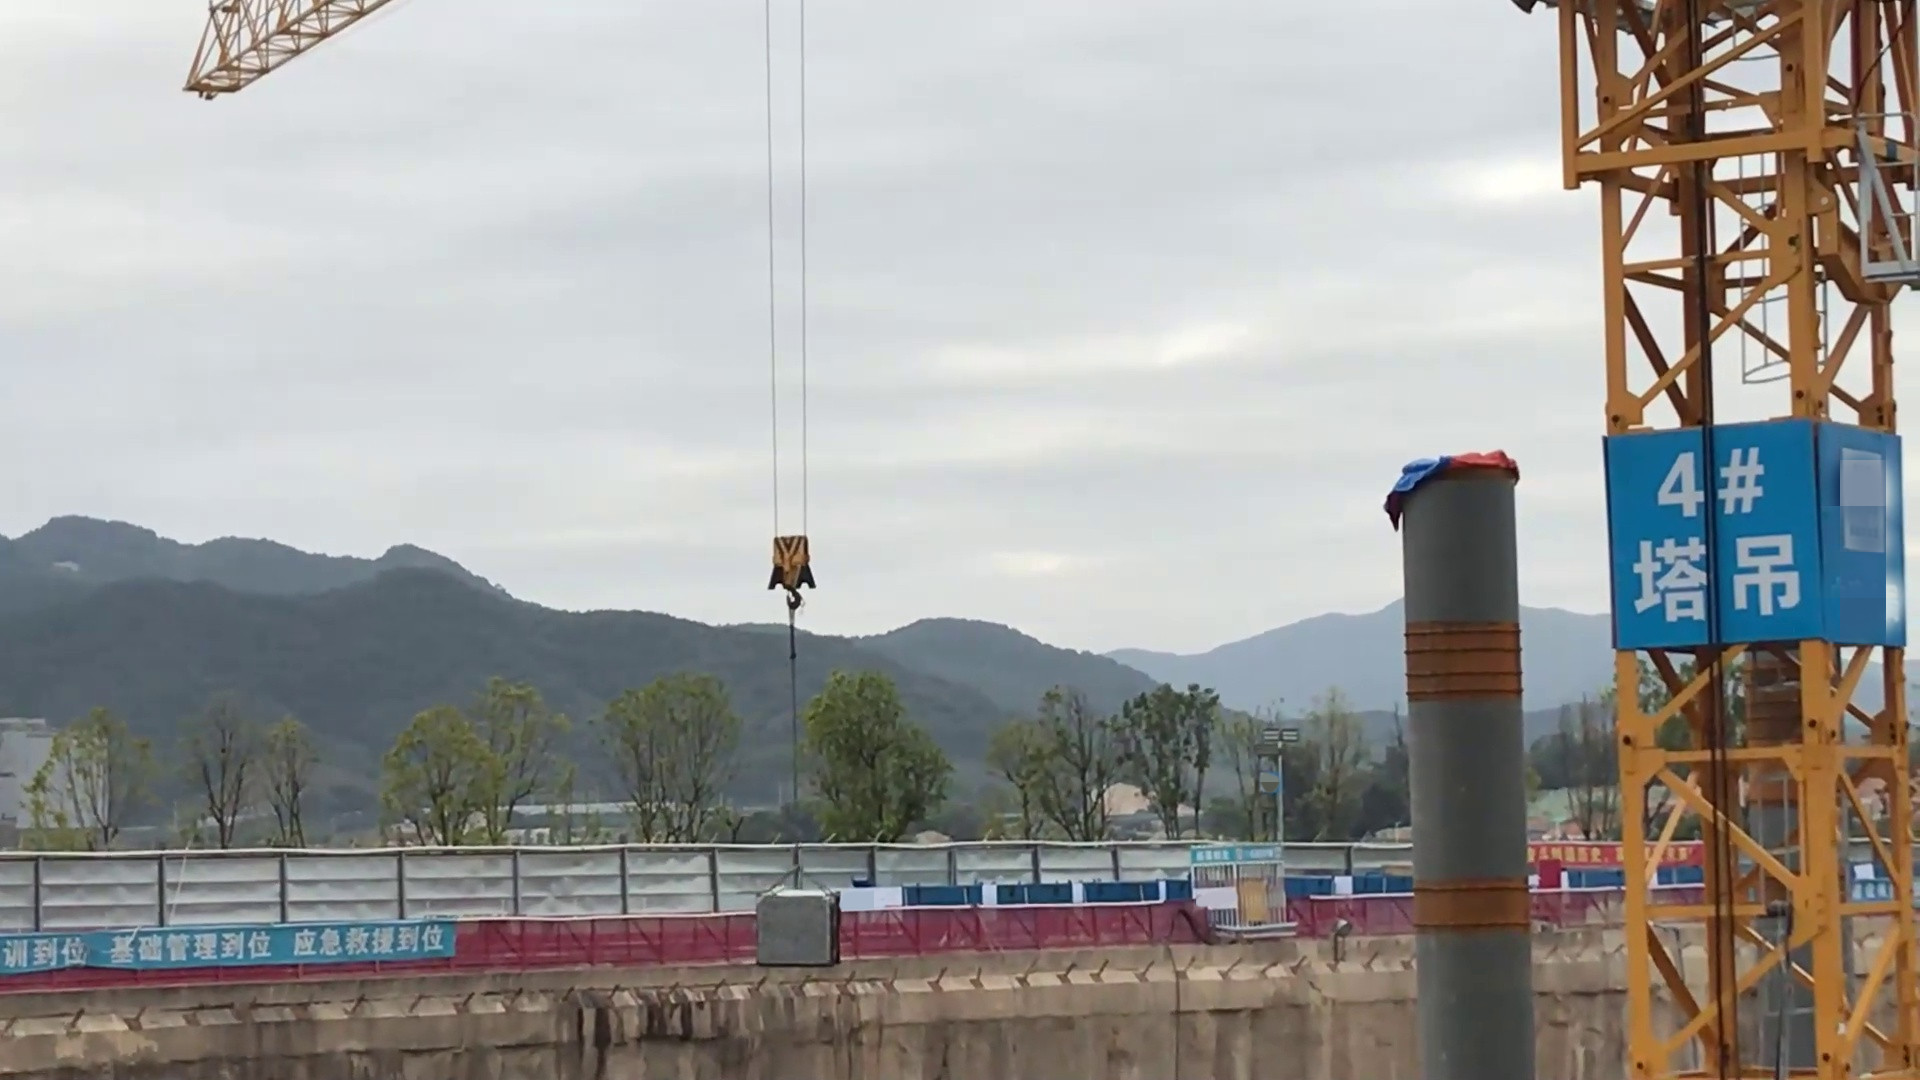fence: (11, 876, 1746, 988)
hook: (756, 534, 825, 608)
scaffold: (746, 889, 843, 968)
slogan: (15, 923, 458, 969), (1526, 843, 1705, 866), (1851, 884, 1920, 909)
